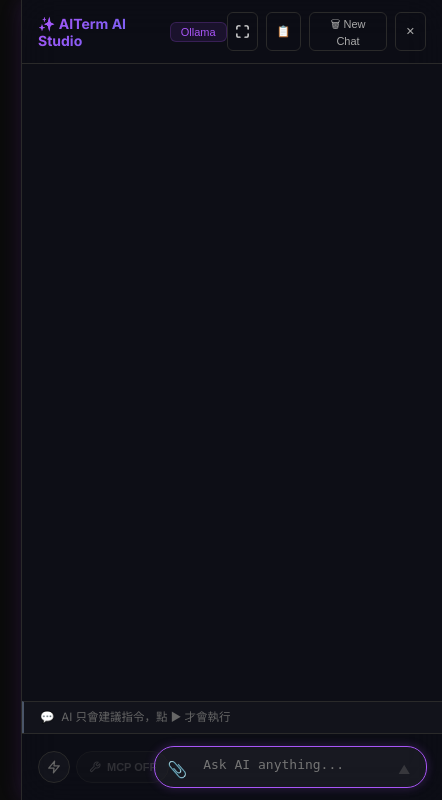
Test case: AiPanel › 在 ssh 進去的遠端工作階段裡，Agent 的系統提示詞會告知別再重新連線
Step 1. Click the button titled "啟用 Agent 模式" → click(54, 767), box [38,751,70,783]
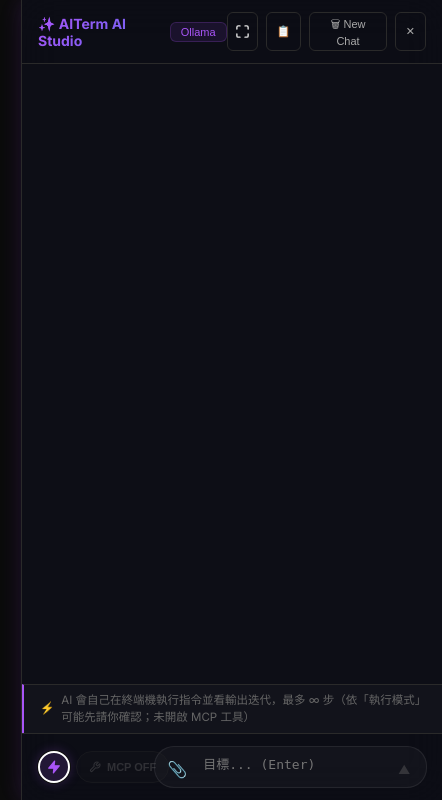
Step 2. Type "顯示 IP" into the text box → (291, 767), box [197,751,384,783]
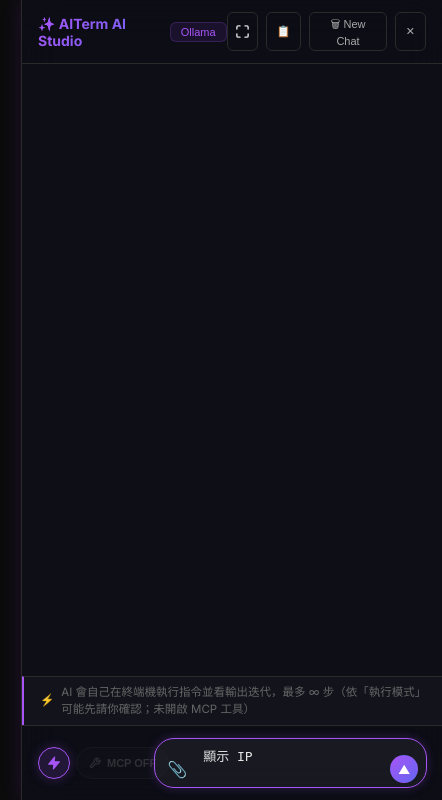
Step 3. Press Enter
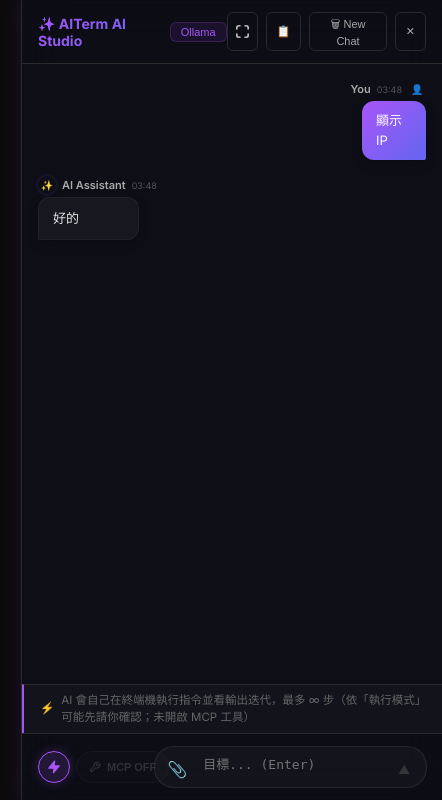
Expected: the text "好的" is shown, [53,210,79,226]
